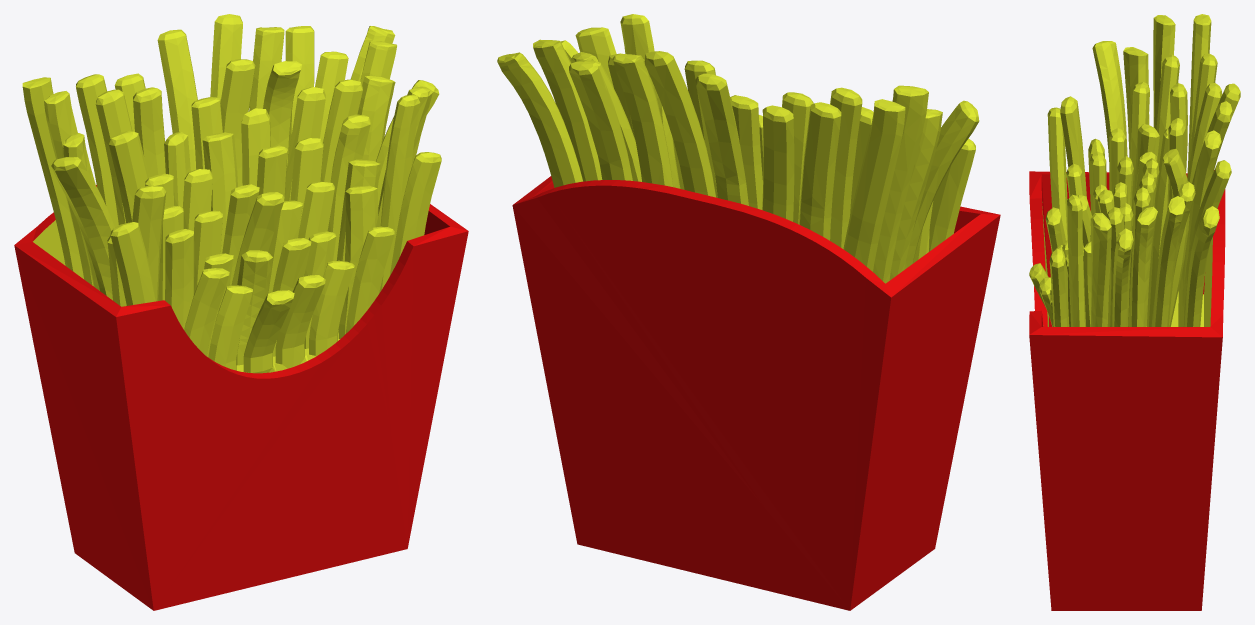
File: french_fries.glb
3 views of the same model, side by side, from view 1: azimuth 30°, elevation 25°; view 2: azimuth 150°, elevation 25°; view 3: azimuth 270°, elevation 25° (orthographic). The views are drawn at different scales.
Visible parts, largest first — view 1: Object_6; view 2: Object_6; view 3: Object_6.
Part boxes in pixels (left/top/right/bottom): Object_6: left=14, top=14, right=468, bottom=610; Object_6: left=497, top=14, right=1000, bottom=610; Object_6: left=1029, top=14, right=1240, bottom=610.
Size of the model in its own units: 3.59 by 4.26 by 1.76.
